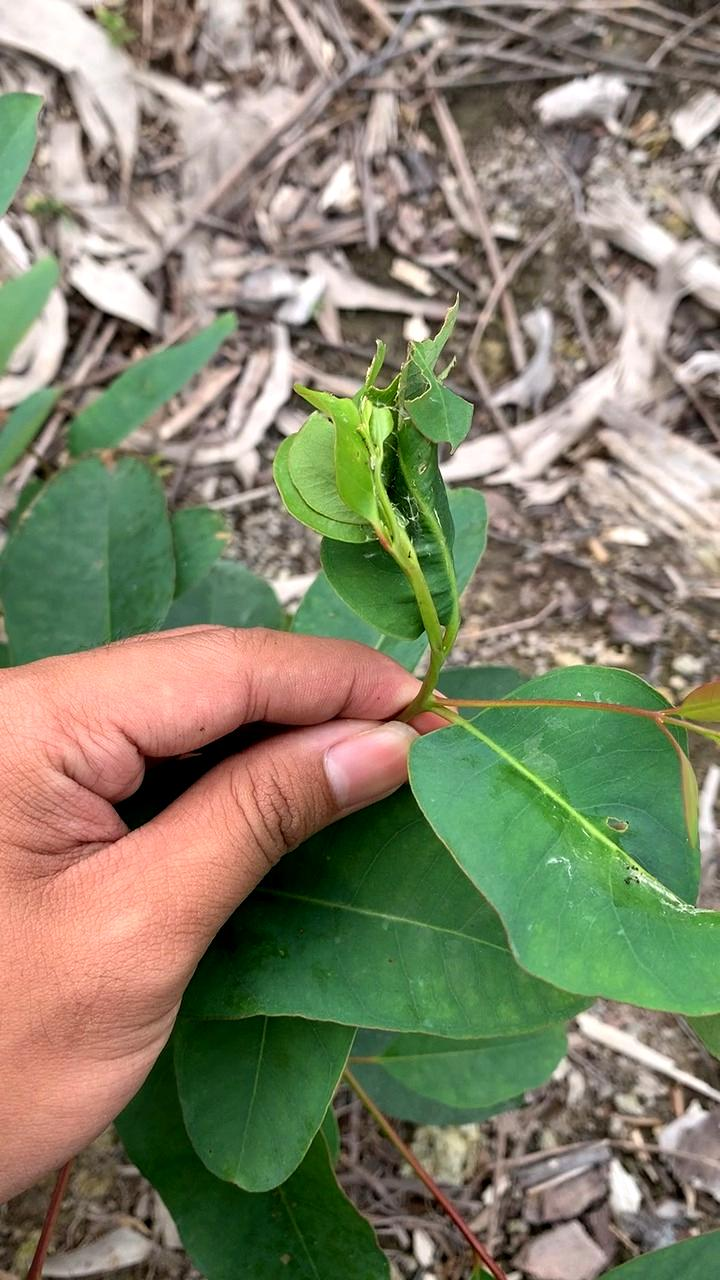Leaf Roller - Leaf: (275, 323, 493, 646)
